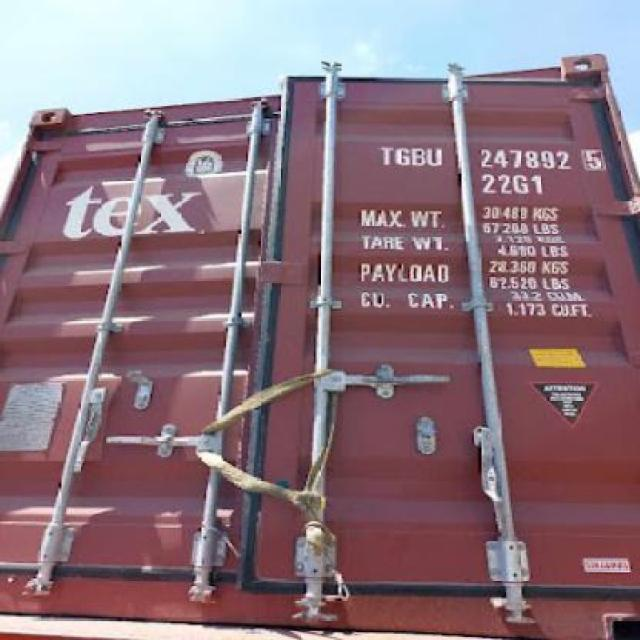ISO: (482, 174, 545, 199)
container_number: (379, 142, 616, 170)
